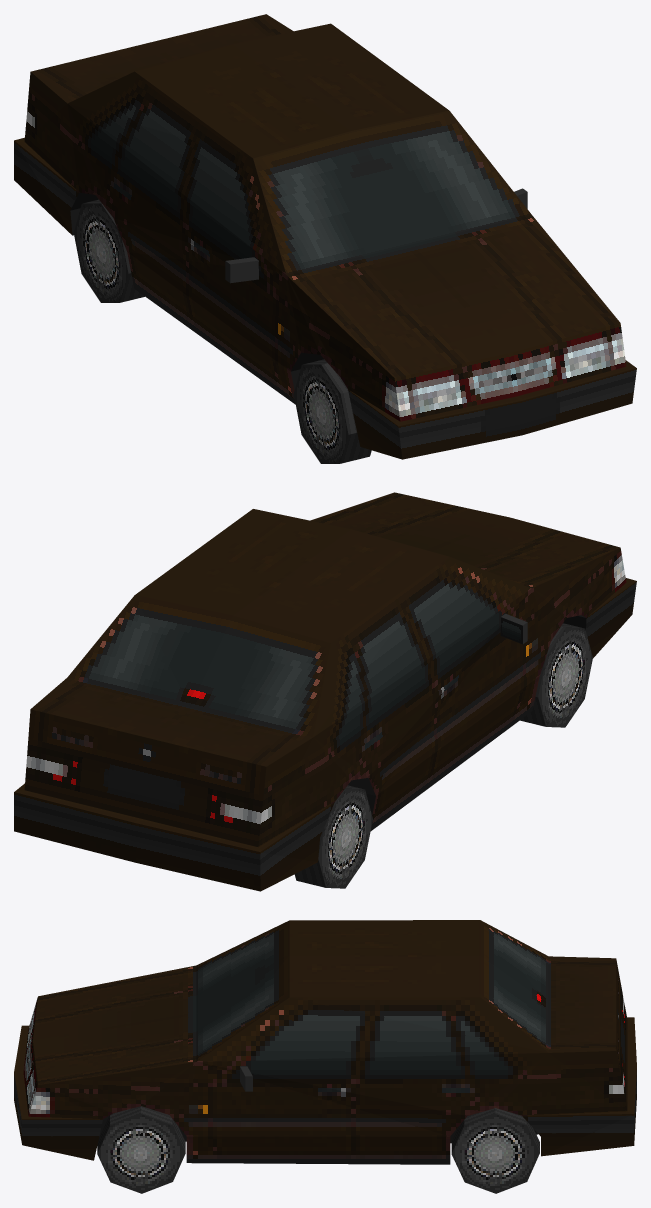
The model's file is carbrown.glb.
3 views of the same model, one above another, from view 1: azimuth 30°, elevation 25°; view 2: azimuth 150°, elevation 25°; view 3: azimuth 270°, elevation 25° (orthographic). The views are drawn at different scales.
Parts seen in each view (by area): view 1: Car2; view 2: Car2; view 3: Car2.
Part boxes in pixels (left/top/right/bottom): Car2: left=14, top=14, right=636, bottom=463; Car2: left=14, top=492, right=636, bottom=891; Car2: left=14, top=920, right=636, bottom=1193.
Bounding box in the file's own units: 2.9 × 2.2 × 6.53.
Materials: 1 (1 with a texture image).
